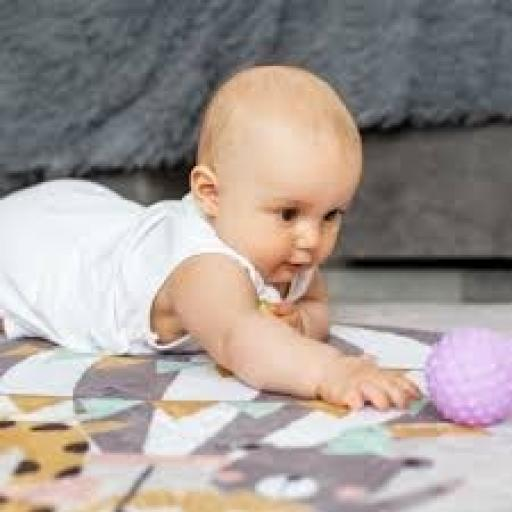baby: (0, 66, 418, 409)
